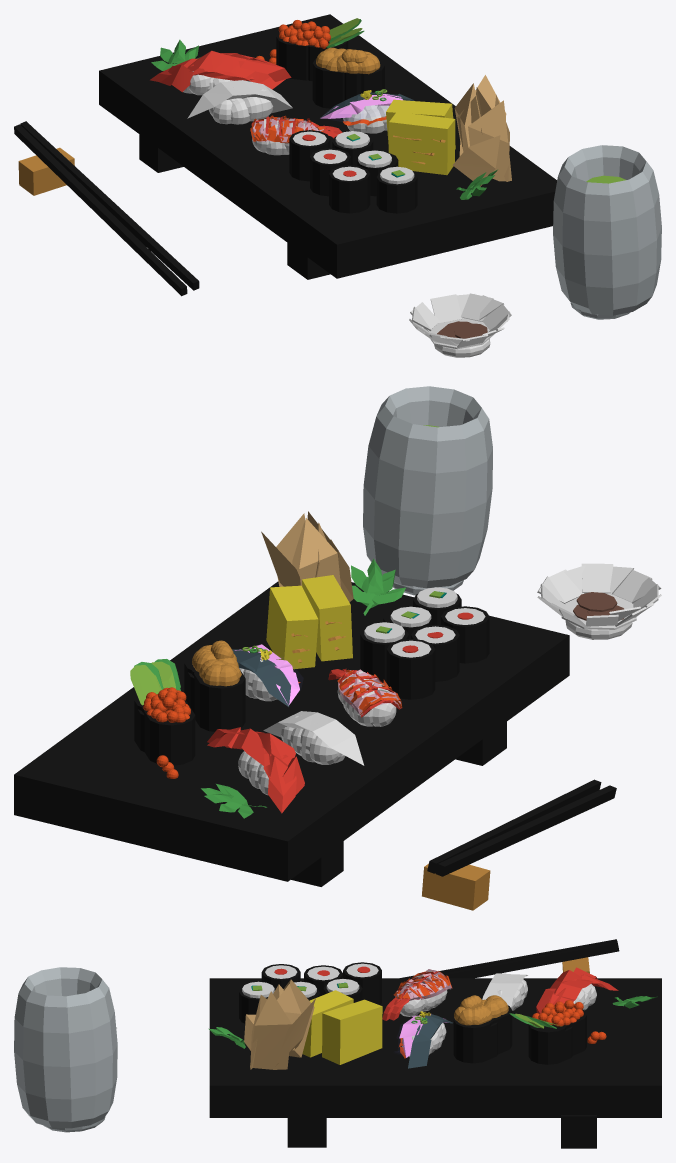
File: sushi-1.gltf
3 views of the same model, one above another, from view 1: azimuth 30°, elevation 25°; view 2: azimuth 150°, elevation 25°; view 3: azimuth 270°, elevation 25° (orthographic). The views are drawn at different scales.
Visible parts, largest first — view 1: node_MeshObject-1659995456-PolyPaper10, node_MeshObject-680767168-PolyPaper10, node_MeshObject-543709120-PolyPaper21, node_MeshObject-1414931584-PolyPaper12, node_MeshObject-1738269120-PolyPaper14, node_MeshObject710649984-PolyGem25; view 2: node_MeshObject-1659995456-PolyPaper10, node_MeshObject-680767168-PolyPaper10, node_MeshObject-543709120-PolyPaper21, node_MeshObject-1414931584-PolyPaper12, node_MeshObject-1738269120-PolyPaper14; view 3: node_MeshObject-1659995456-PolyPaper10, node_MeshObject-680767168-PolyPaper10, node_MeshObject-543709120-PolyPaper21, node_MeshObject-1414931584-PolyPaper12, node_MeshObject-1738269120-PolyPaper14, node_MeshObject899201024-PolyPaper14, node_MeshObject710649984-PolyGem25.
Boxes of the visible parts, x1,y1,x2,y2 form: node_MeshObject-1659995456-PolyPaper10: [99, 14, 557, 278]; node_MeshObject-680767168-PolyPaper10: [14, 50, 661, 357]; node_MeshObject-543709120-PolyPaper21: [139, 37, 511, 213]; node_MeshObject-1414931584-PolyPaper12: [229, 18, 455, 175]; node_MeshObject-1738269120-PolyPaper14: [256, 20, 372, 72]; node_MeshObject710649984-PolyGem25: [320, 94, 402, 118]; node_MeshObject-1659995456-PolyPaper10: [14, 581, 569, 881]; node_MeshObject-680767168-PolyPaper10: [224, 386, 661, 910]; node_MeshObject-543709120-PolyPaper21: [207, 511, 489, 886]; node_MeshObject-1414931584-PolyPaper12: [130, 575, 352, 765]; node_MeshObject-1738269120-PolyPaper14: [150, 648, 241, 778]; node_MeshObject-1659995456-PolyPaper10: [209, 971, 661, 1117]; node_MeshObject-680767168-PolyPaper10: [14, 939, 619, 1147]; node_MeshObject-543709120-PolyPaper21: [239, 962, 618, 1148]; node_MeshObject-1414931584-PolyPaper12: [302, 977, 586, 1064]; node_MeshObject-1738269120-PolyPaper14: [471, 995, 606, 1043]; node_MeshObject899201024-PolyPaper14: [532, 1002, 583, 1026]; node_MeshObject710649984-PolyGem25: [399, 1014, 448, 1057].
Bounding box in the file's own units: 1.22 × 0.526 × 1.99.
